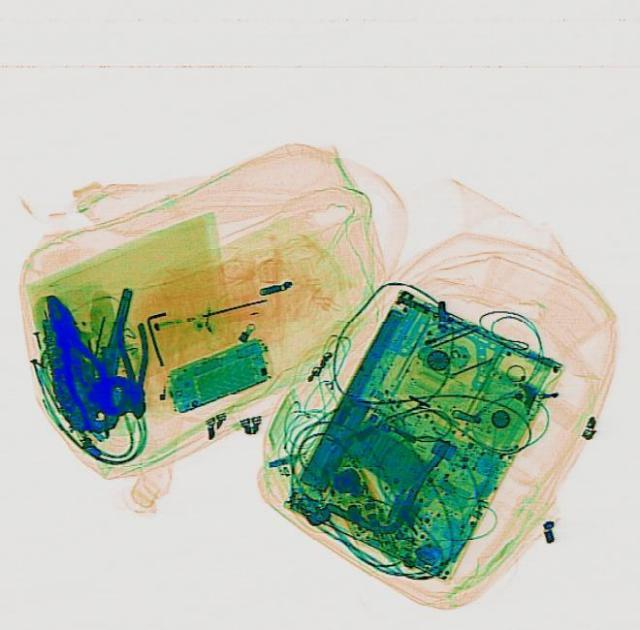Pliers: (30, 286, 120, 428), (112, 319, 156, 418)
